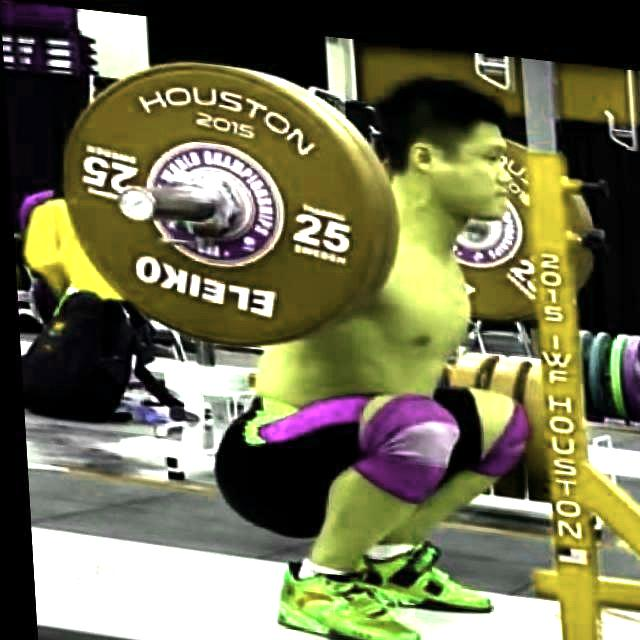barbell: (46, 40, 385, 360)
